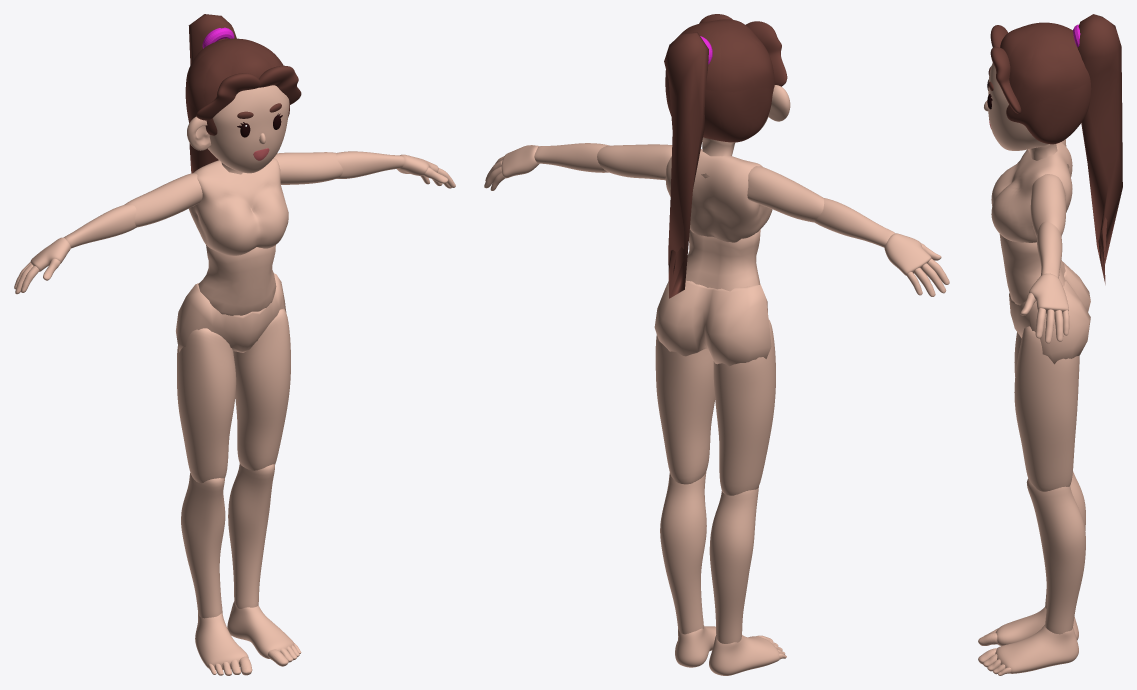
Rendered from female_model2.glb.
The picture shows the model from 3 angles, left to right: view 1: azimuth 30°, elevation 25°; view 2: azimuth 150°, elevation 25°; view 3: azimuth 270°, elevation 25°; orthographic projection. The views are drawn at different scales.
Parts seen in each view (by area): view 1: leg, chest 1, foot, head.001, arm, Icosphere.003, pelvis, arm 2, hand, Cube.015, Icosphere.002; view 2: leg, chest 1, pelvis, Icosphere.003, Icosphere.002, arm, hand, foot, arm 2, Cube.015; view 3: leg, Icosphere.003, Icosphere.002, chest 1, foot, pelvis, hand, head.001, arm, arm 2, Cube.015, neck.
Boxes of the visible parts, x1,y1,x2,y2 form: leg: (177,308,290,618); chest 1: (189,158,288,315); foot: (195,601,301,675); head.001: (208,85,289,173); arm: (124,152,342,227); Icosphere.003: (185,38,289,135); pelvis: (176,273,286,352); arm 2: (63,151,404,248); hand: (14,154,455,294); Cube.015: (196,65,301,120); Icosphere.002: (188,14,236,173); leg: (655,319,775,643); chest 1: (665,149,772,291); pelvis: (654,280,771,366); Icosphere.003: (665,19,774,142); Icosphere.002: (664,32,708,298); arm: (597,144,824,222); hand: (484,145,949,296); foot: (675,625,786,675); arm 2: (534,143,895,247); Cube.015: (699,14,787,86); leg: (1014,326,1085,634); Icosphere.003: (1000,22,1091,144); Icosphere.002: (1077,14,1122,284); chest 1: (991,142,1072,305); foot: (978,607,1078,675); pelvis: (1009,261,1090,364); hand: (1020,273,1069,343); head.001: (988,62,1048,150); arm: (1030,139,1066,237); arm 2: (1037,221,1062,278); Cube.015: (990,25,1021,113); neck: (1028,144,1069,168).
Size of the model in its own units: 15.08 by 20.38 by 4.19.
